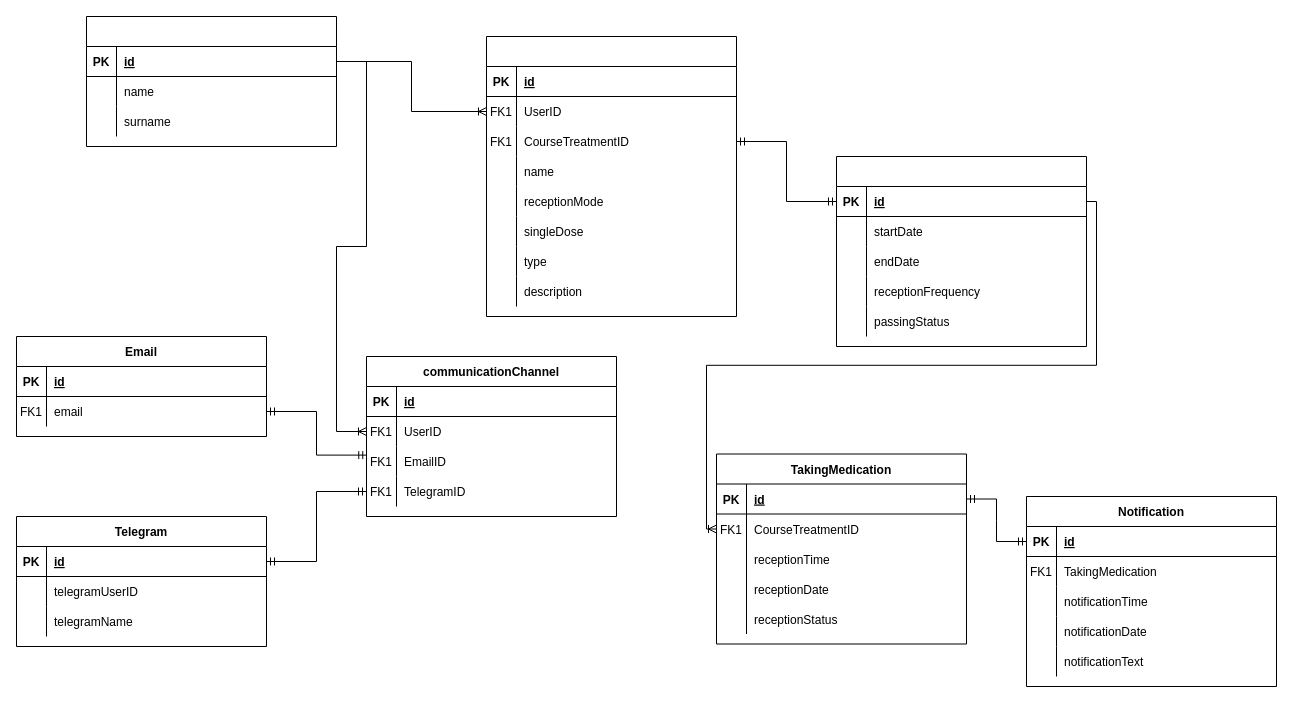
Image size: 1293x703. Some labels were removed from this diagram. Each missing label, with the box of its shape:
CourseTreatment: (836, 156, 1086, 346)
Medicine: (486, 36, 736, 316)
User: (86, 16, 336, 146)
